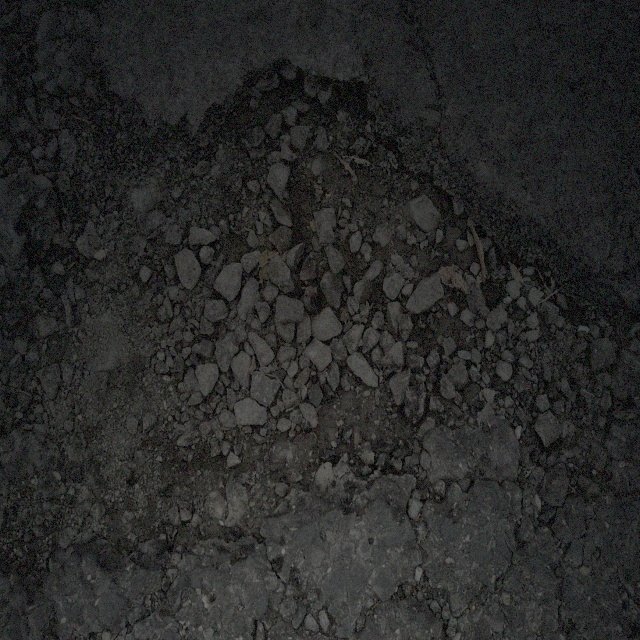pothole: (87, 57, 628, 561)
